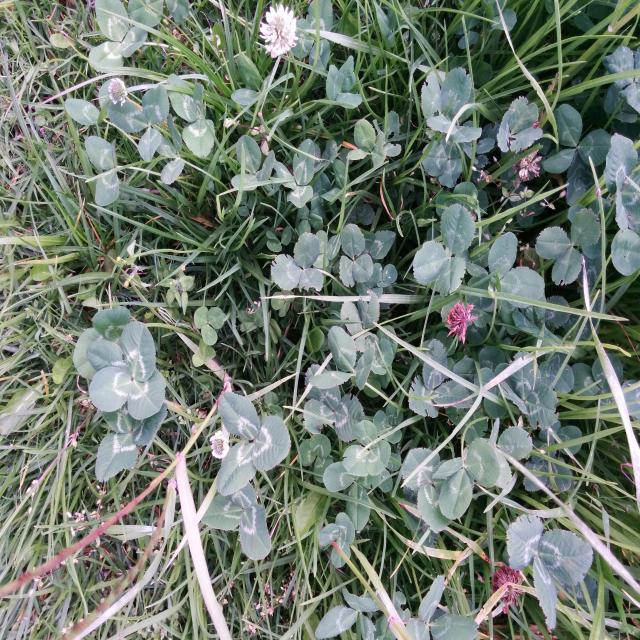Four Leaf Clover: (86, 321, 166, 419)
